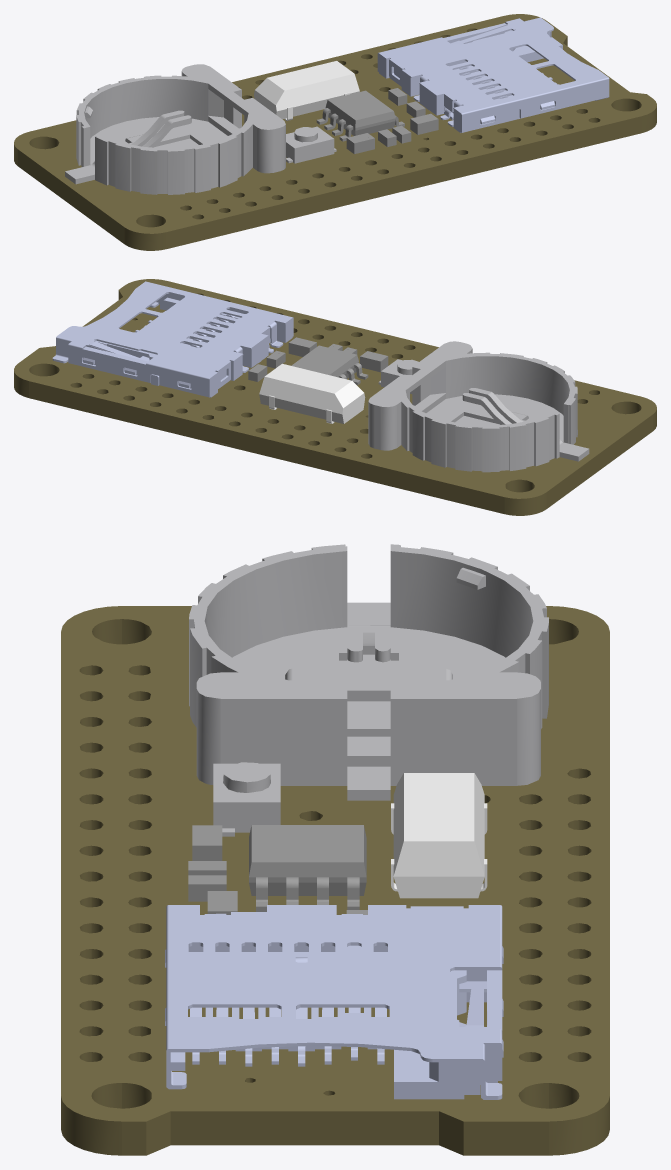
The model's file is ada-2922.glb.
3 renders of one model, top to bottom at view 1: azimuth 30°, elevation 25°; view 2: azimuth 150°, elevation 25°; view 3: azimuth 270°, elevation 25°, orthographic. The views are drawn at different scales.
Parts seen in each view (by area): view 1: 0.16666666666666666_0.16666666666666666_0.08333333333333333_, 0.5833333333333334_0.5833333333333334_0.5833333333333334_0.8, 0.5833333333333334_0.6666666666666666_0.8333333333333334_0, 0.3333333333333333_0.3333333333333333_0.3333333333333333_0, 1_1_1_0.85; view 2: 0.16666666666666666_0.16666666666666666_0.08333333333333333_, 0.5833333333333334_0.5833333333333334_0.5833333333333334_0.8, 0.5833333333333334_0.6666666666666666_0.8333333333333334_0, 1_1_1_0.85, 0.3333333333333333_0.3333333333333333_0.3333333333333333_0; view 3: 0.16666666666666666_0.16666666666666666_0.08333333333333333_, 0.5833333333333334_0.5833333333333334_0.5833333333333334_0.8, 0.5833333333333334_0.6666666666666666_0.8333333333333334_0, 0.3333333333333333_0.3333333333333333_0.3333333333333333_0, 1_1_1_0.85.
Boxes of the visible parts, bbox=[...] form: 0.16666666666666666_0.16666666666666666_0.08333333333333333_: bbox=[14, 14, 656, 250]; 0.5833333333333334_0.5833333333333334_0.5833333333333334_0.8: bbox=[65, 64, 336, 194]; 0.5833333333333334_0.6666666666666666_0.8333333333333334_0: bbox=[377, 17, 609, 132]; 0.3333333333333333_0.3333333333333333_0.3333333333333333_0: bbox=[316, 88, 438, 154]; 1_1_1_0.85: bbox=[254, 61, 359, 120]; 0.16666666666666666_0.16666666666666666_0.08333333333333333_: bbox=[14, 279, 656, 515]; 0.5833333333333334_0.5833333333333334_0.5833333333333334_0.8: bbox=[368, 341, 589, 472]; 0.5833333333333334_0.6666666666666666_0.8333333333333334_0: bbox=[52, 281, 293, 397]; 1_1_1_0.85: bbox=[259, 363, 365, 423]; 0.3333333333333333_0.3333333333333333_0.3333333333333333_0: bbox=[248, 337, 388, 385]; 0.16666666666666666_0.16666666666666666_0.08333333333333333_: bbox=[61, 606, 609, 1155]; 0.5833333333333334_0.5833333333333334_0.5833333333333334_0.8: bbox=[189, 544, 548, 836]; 0.5833333333333334_0.6666666666666666_0.8333333333333334_0: bbox=[165, 905, 503, 1099]; 0.3333333333333333_0.3333333333333333_0.3333333333333333_0: bbox=[188, 825, 367, 914]; 1_1_1_0.85: bbox=[391, 773, 487, 898].
Size of the model in its own units: 5.08 by 0.5569 by 2.29.
